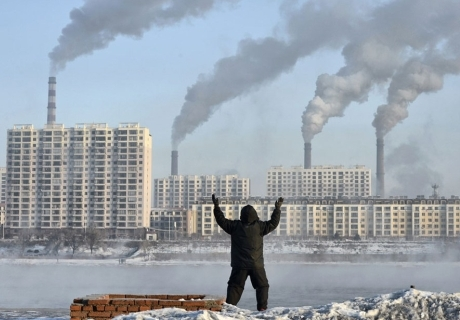dust: (43, 5, 140, 79), (370, 61, 430, 139), (167, 76, 228, 152), (299, 73, 347, 149)
